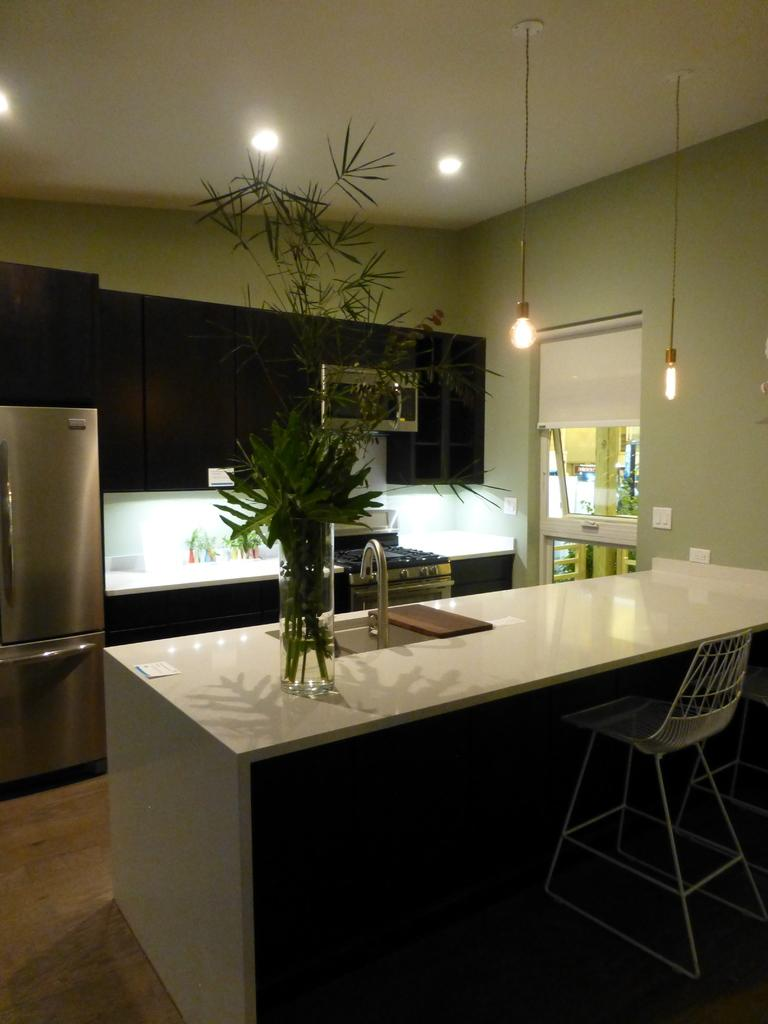handle: (7, 653, 87, 687), (3, 485, 18, 604)
